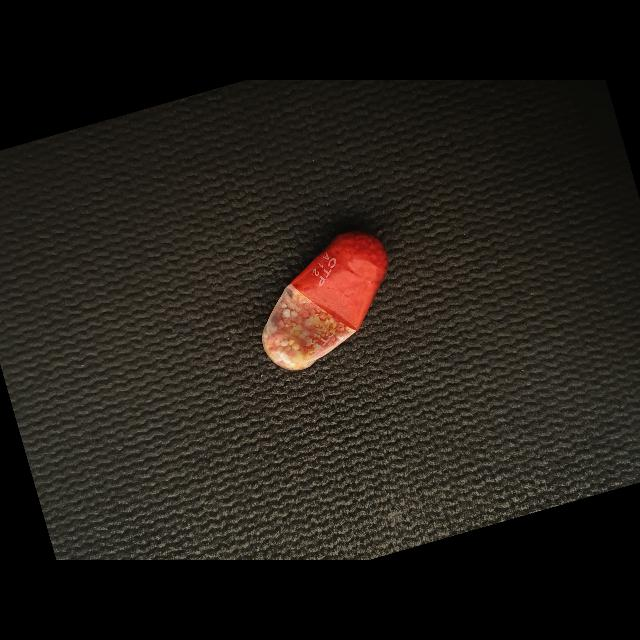Defective Capsule: (262, 232, 388, 371)
